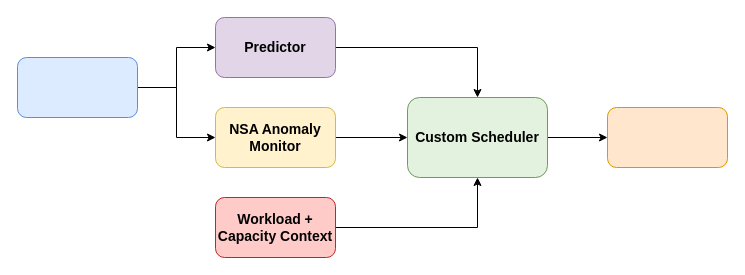
The diagram is 745 pixels wide and 275 high, and some of its shapes have lost their labels. Each missing label, with the centre of its shape:
Ranked Node Choice: point 667,137
Telemetry Window: point 77,87
